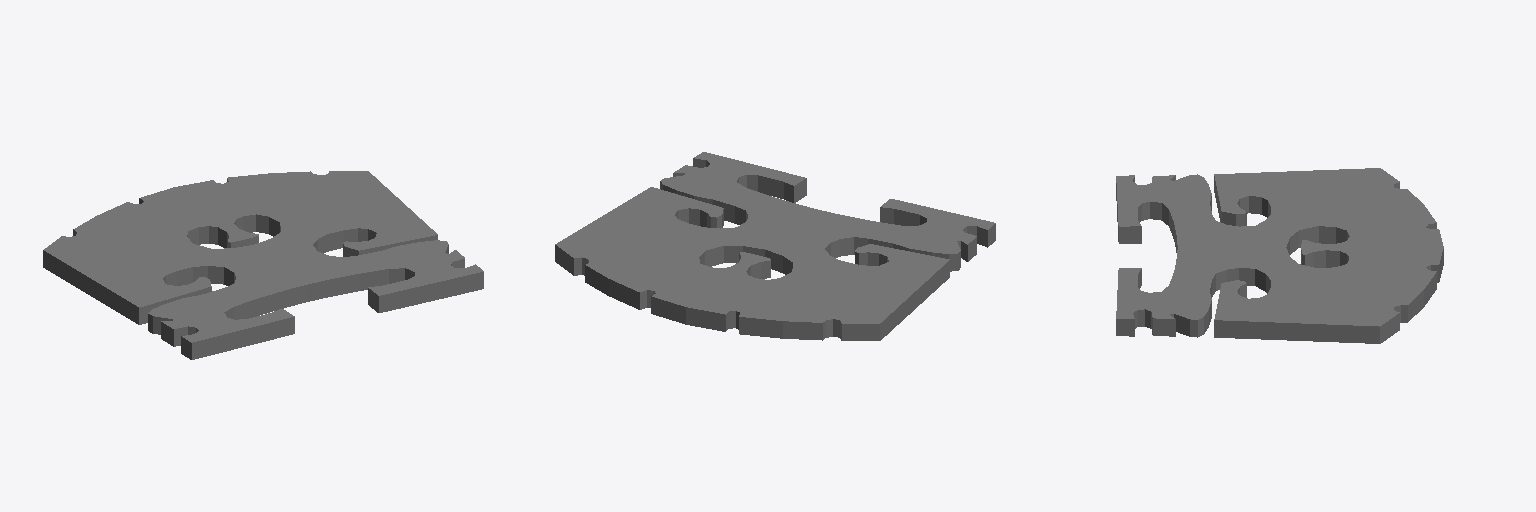
File: talla.obj
3 views of the same model, side by side, from view 1: azimuth 30°, elevation 25°; view 2: azimuth 150°, elevation 25°; view 3: azimuth 270°, elevation 25° (orthographic).
Visible parts, largest first — view 1: Curve; view 2: Curve; view 3: Curve.
Boxes of the visible parts, <box> form: Curve: <box>43,171,483,359</box>; Curve: <box>555,152,995,340</box>; Curve: <box>1116,168,1443,343</box>.
Bounding box in the file's own units: 2.92 × 0.1506 × 2.55.